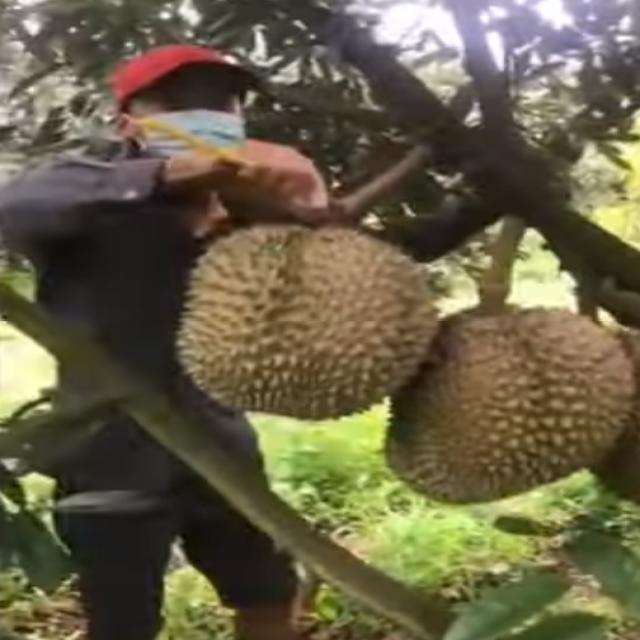mature: (175, 226, 443, 423), (378, 300, 632, 506)
